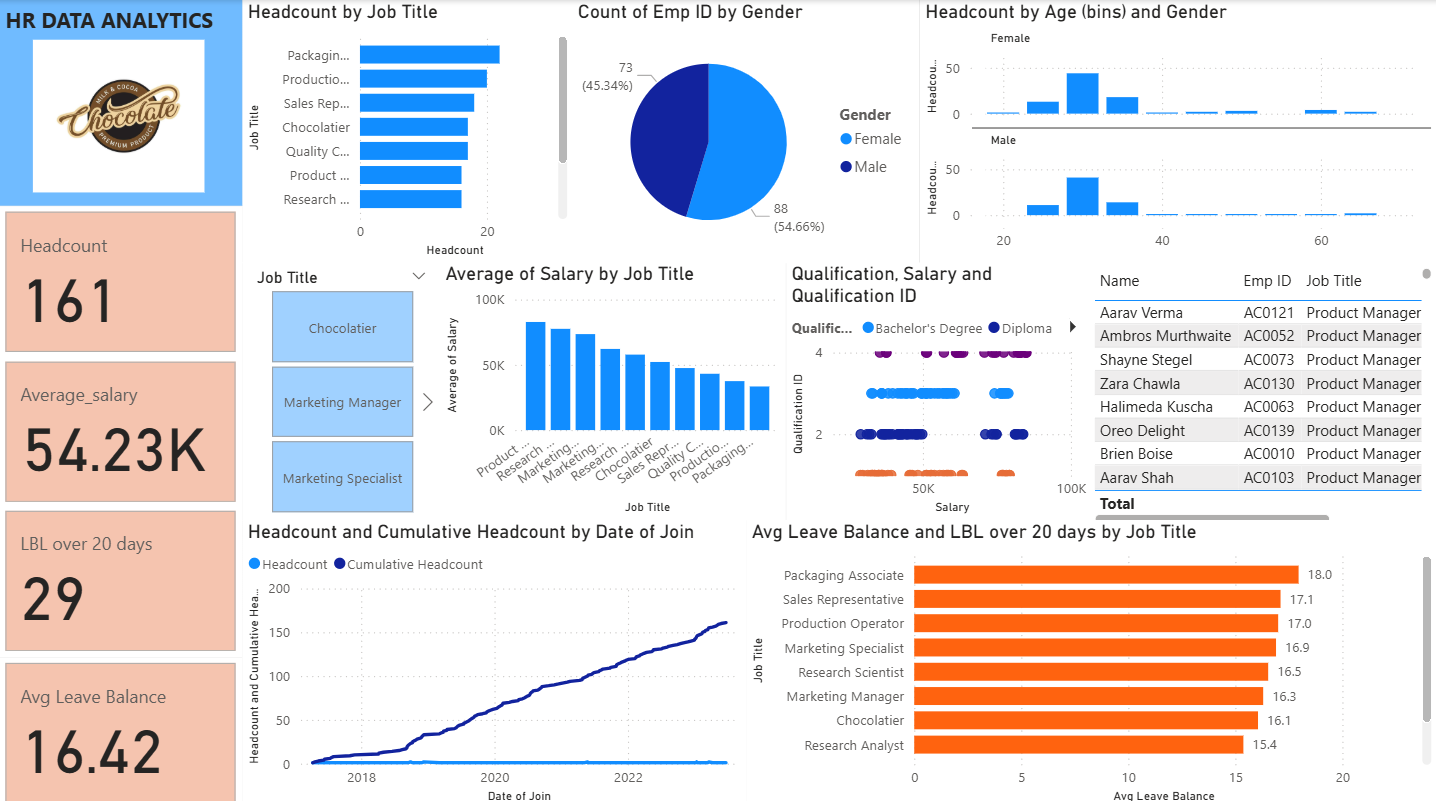

What the dashboard file says about the page in this screenshot:
{"tool":"powerbi","page":{"name":"Page 4","canvas":[1280,720],"ordinal":3},"visuals":[{"type":"cardVisual","fields":{"Data":["data.Headcount","data.Average_salary","data.LBL over 20 days"]},"box":[0,183.4,216,401.7],"z":0},{"type":"cardVisual","fields":{"Data":["data.Avg Leave Balance"]},"box":[0,585.1,216,135.1],"z":1000},{"type":"textbox","box":[0,0,216,183.4],"z":2000},{"type":"barChart","fields":{"Category":["data.Job Title"],"Y":["data.Headcount"]},"box":[216,0,294.4,234],"z":3000},{"type":"pieChart","fields":{"Category":["data.Gender"],"Y":["data.Emp ID"]},"box":[510.3,0,308.8,234],"z":4000},{"type":"slicer","fields":{"Values":["data.Job Title"]},"box":[216,234,176.1,229.2],"z":5000},{"type":"columnChart","fields":{"Category":["data.Age (bins)"],"Y":["data.Headcount"],"Rows":["data.Gender"]},"box":[819.2,0,460.9,234],"z":6000},{"type":"clusteredColumnChart","fields":{"Category":["data.Job Title"],"Y":["data.Salary"]},"box":[392.1,234,307.6,229.2],"z":7000},{"type":"tableEx","fields":{"Values":["data.Name","data.Emp ID","data.Job Title","data.Salary"]},"box":[968.8,234,311.3,237.7],"z":8000},{"type":"barChart","fields":{"Category":["data.Job Title"],"Y":["data.Avg Leave Balance"]},"box":[664.7,463.3,615.3,257],"z":9000},{"type":"lineChart","fields":{"Y":["data.Headcount","data.Cumulative Headcount"],"Category":["data.Date of Join"]},"box":[216,463.3,448.8,257],"z":10000},{"type":"scatterChart","fields":{"X":["data.Salary"],"Y":["Education Qualification.Qualification ID"],"Series":["Education Qualification.Qualification"]},"box":[699.7,234,272.7,229.2],"z":11000},{"type":"image","box":[24.1,22.9,162.9,160.5],"z":12000}]}

Visuals, with their boxes in screenshot pixels (x1, y1, x2, y2), scaled from the page's 1280x720 canvas onto the 1436x801 screenshot:
cardVisual - data.Headcount x data.Average_salary: BBox(0, 204, 242, 651)
cardVisual - data.Avg Leave Balance: BBox(0, 651, 242, 800)
textbox: BBox(0, 0, 242, 204)
barChart - data.Job Title x data.Headcount: BBox(242, 0, 573, 260)
pieChart - data.Gender x data.Emp ID: BBox(572, 0, 919, 260)
slicer - data.Job Title: BBox(242, 260, 440, 515)
columnChart - data.Age (bins) x data.Headcount: BBox(919, 0, 1435, 260)
clusteredColumnChart - data.Job Title x data.Salary: BBox(440, 260, 785, 515)
tableEx - data.Name x data.Emp ID: BBox(1087, 260, 1435, 525)
barChart - data.Job Title x data.Avg Leave Balance: BBox(746, 515, 1435, 800)
lineChart - data.Headcount x data.Cumulative Headcount: BBox(242, 515, 746, 800)
scatterChart - data.Salary x Education Qualification.Qualification ID: BBox(785, 260, 1091, 515)
image: BBox(27, 25, 210, 204)
